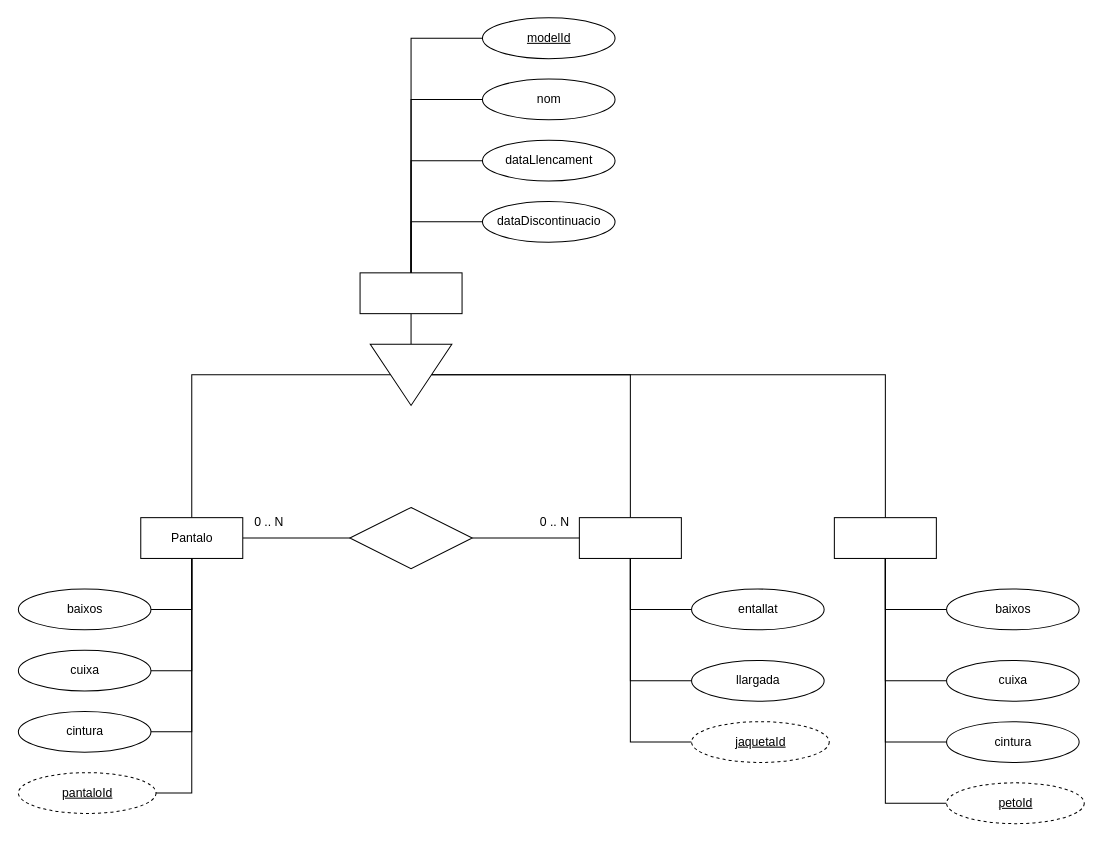
The diagram is 1102 pixels wide and 842 high, and some of its shapes have lost their labels. Here are the shapes that lost their labels. From the top down, the box of each, then its label:
(359, 272, 462, 314): Model
(369, 343, 452, 405): ÉS
(349, 506, 472, 569): combina amb
(578, 517, 681, 558): Jaqueta
(833, 517, 936, 558): Peto
